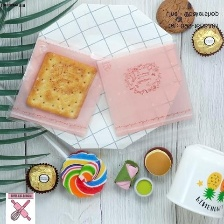snack: (0, 30, 115, 143), (90, 34, 200, 145), (161, 138, 224, 224)
